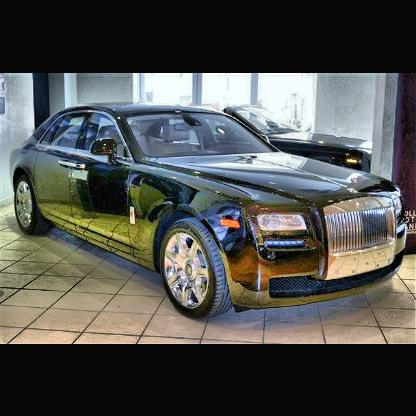Rolls-Royce Ghost Sedan 2012: (9, 105, 410, 322)
